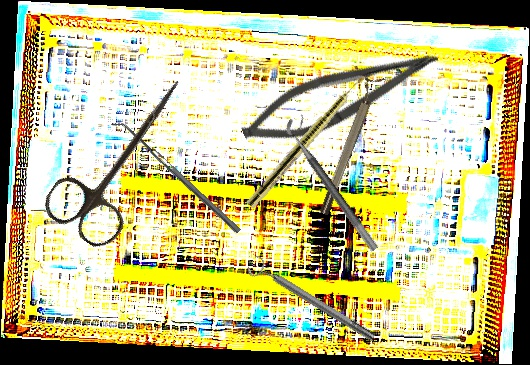Fixation Ring: (281, 112, 390, 253), (244, 252, 380, 349), (311, 71, 386, 217)
Handpiece: (245, 68, 372, 211)
Iris Scissors: (37, 56, 209, 255)
Micro Scissor: (234, 25, 446, 164)
Spatula Surgical: (111, 116, 241, 238)
